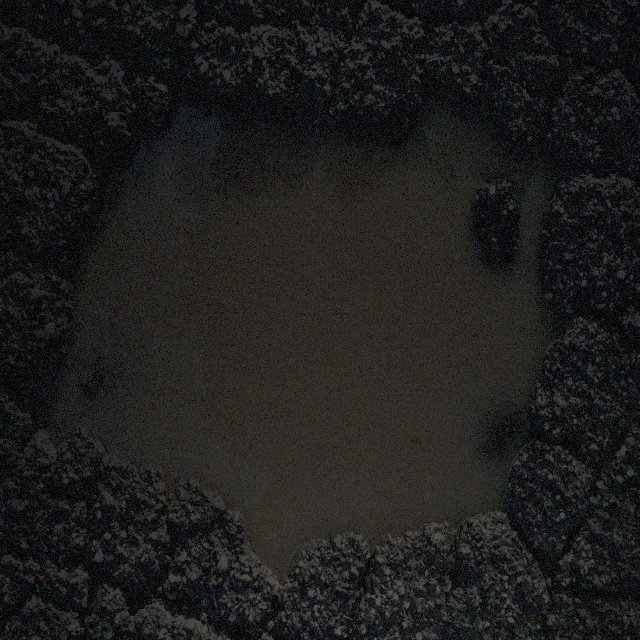pothole: (22, 54, 573, 597)
